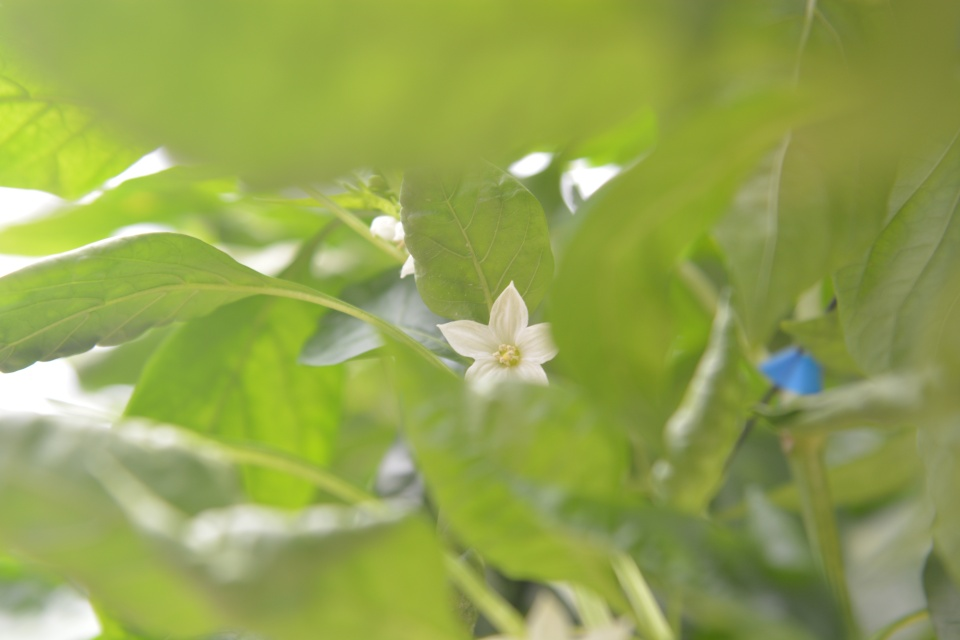flower: (433, 279, 560, 398)
